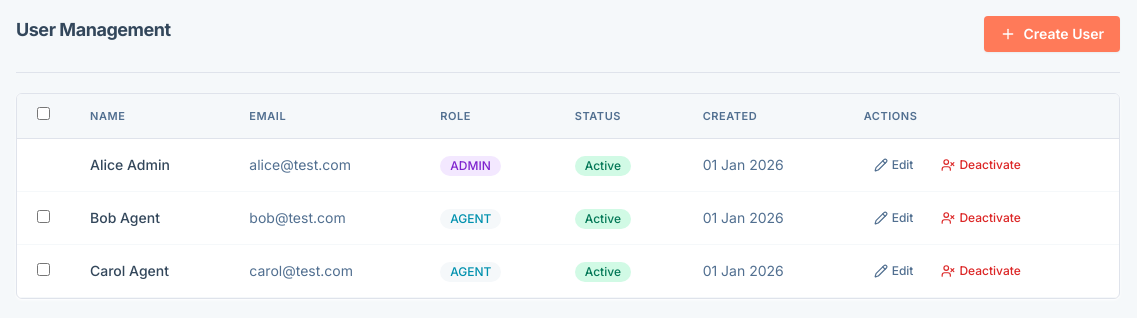
Test: UsersPage — force logout selected agents › selecting one agent shows a count of 1, selecting a second bumps it to 2
Expected: the text "Bob Agent" is shown, [70,192,229,244]
Click the checkbox named "Select Bob Agent": (44, 216) [37,210,50,223]
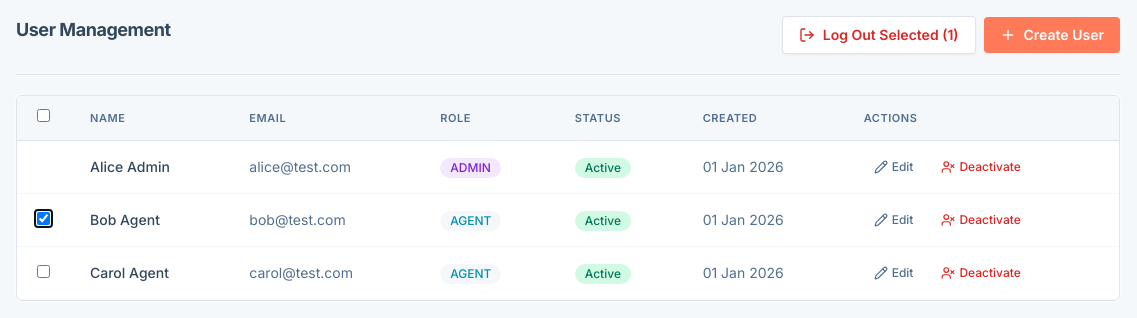
Expected: the button "Log Out Selected (1)" is shown, [782,16,976,54]
Click the checkbox named "Select Carol Agent": (44, 272) [37,265,50,278]
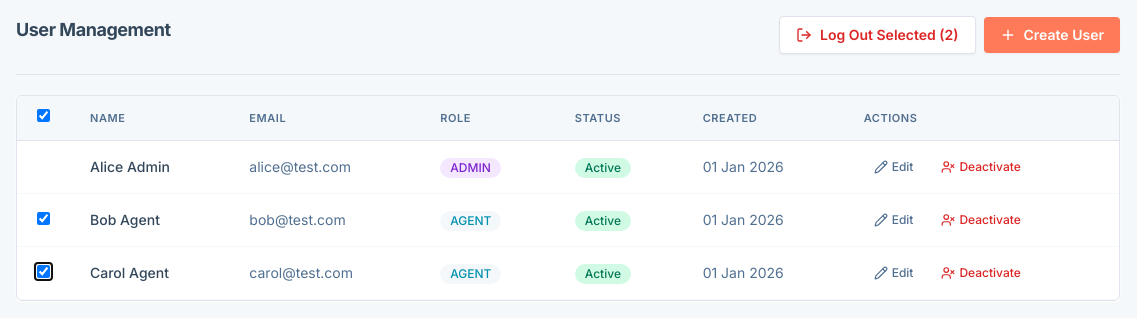
Expected: the button "Log Out Selected (2)" is shown, [779,16,976,54]
